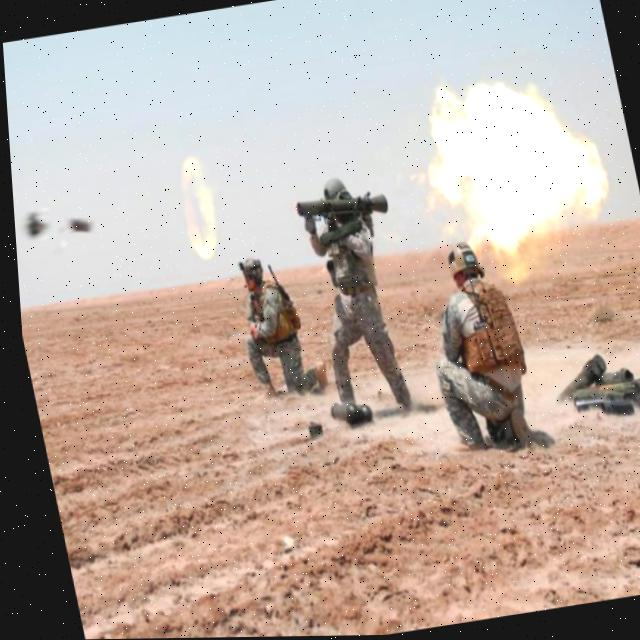rocket: (285, 185, 389, 233)
